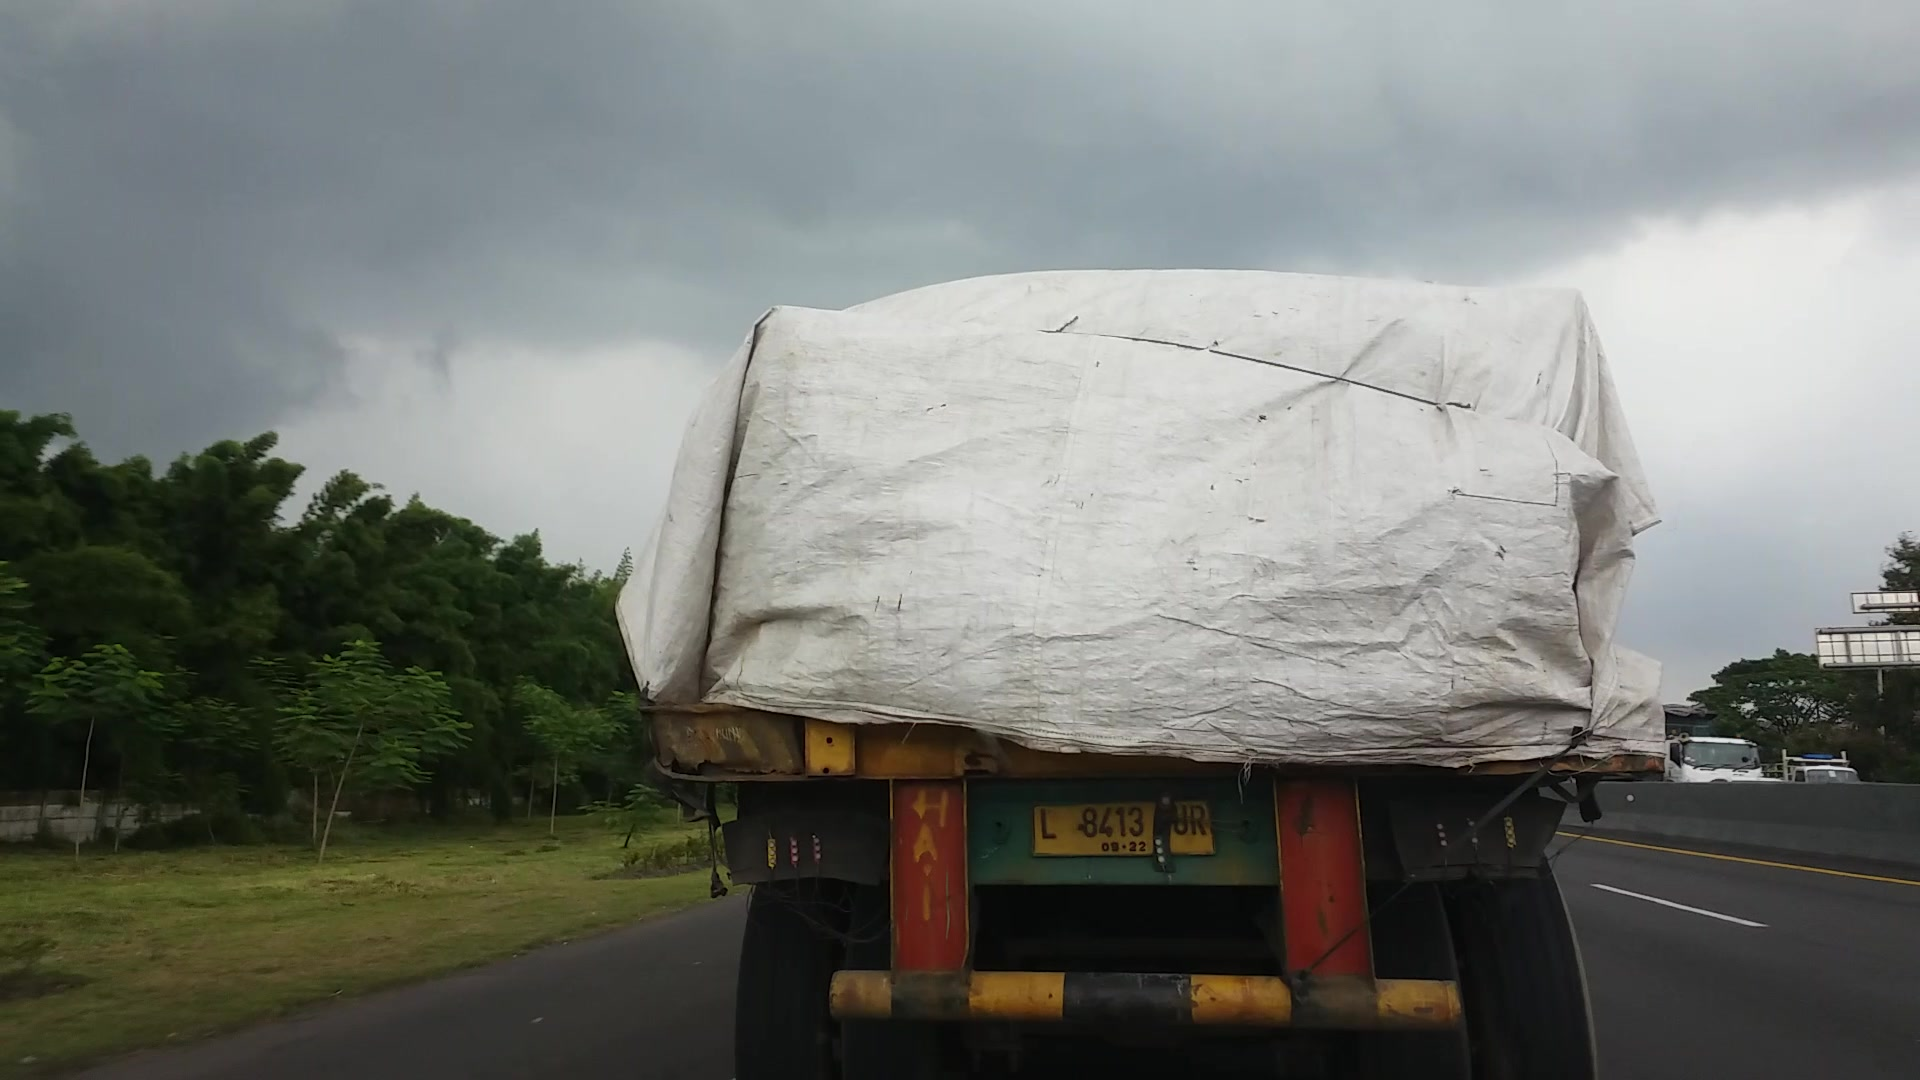plate_positive: (1030, 800, 1215, 856)
